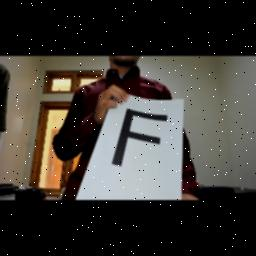f: (110, 100, 170, 180)
